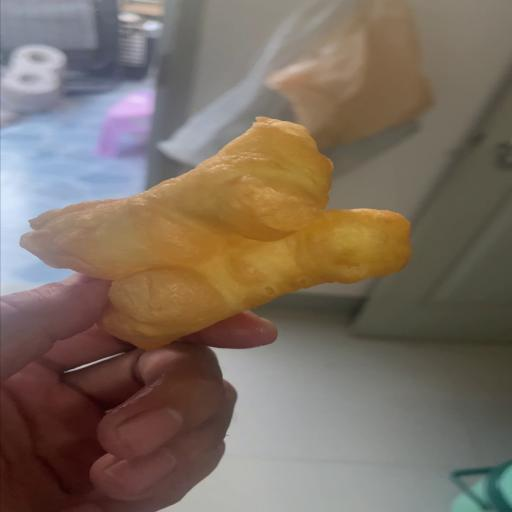street_golden_good: (20, 117, 410, 349)
